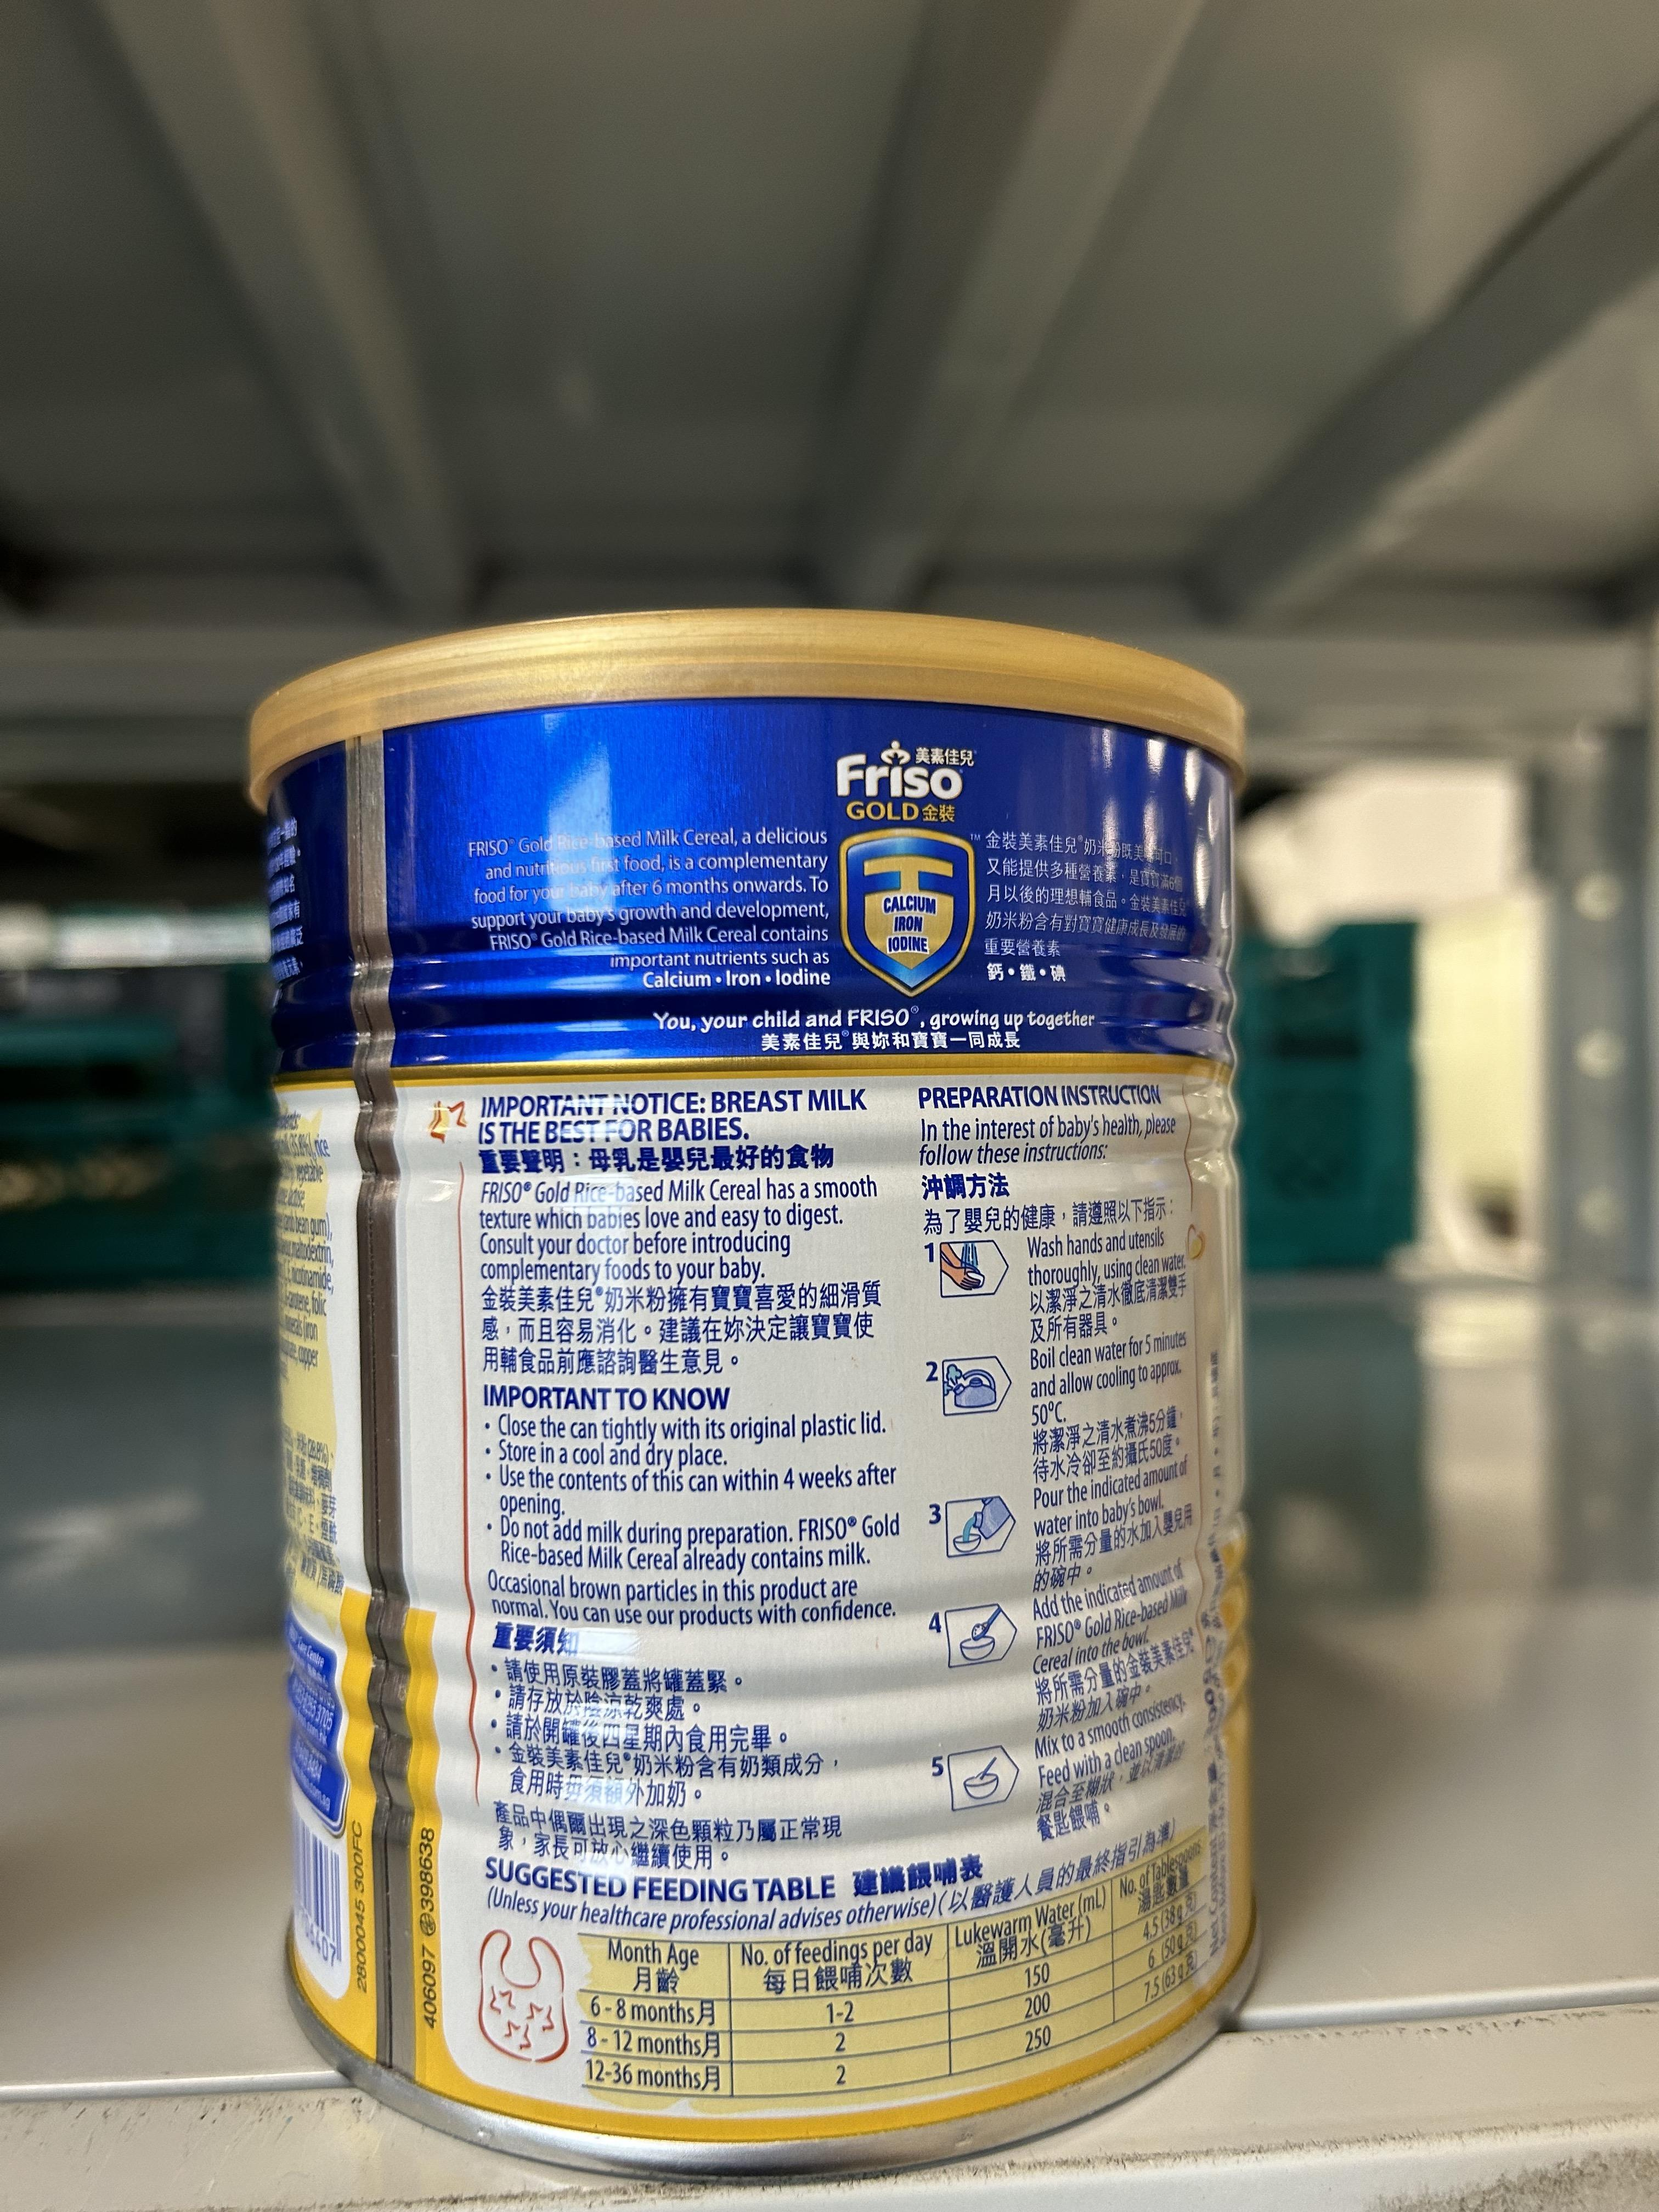object_name: (277, 705, 1248, 2015)
